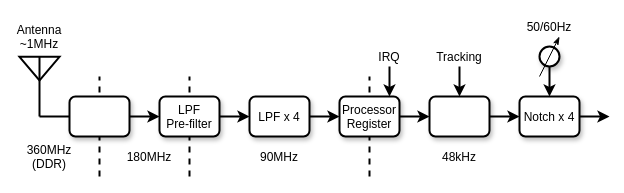
The diagram is 624 pixels wide and 193 high, and some of its shapes have lost their labels. Here are the shapes that lost their labels. From the top down, the centre of each, then its label:
At (x=100, y=117): "Digital Oscillator".
At (x=460, y=117): "8 Order LPF".
